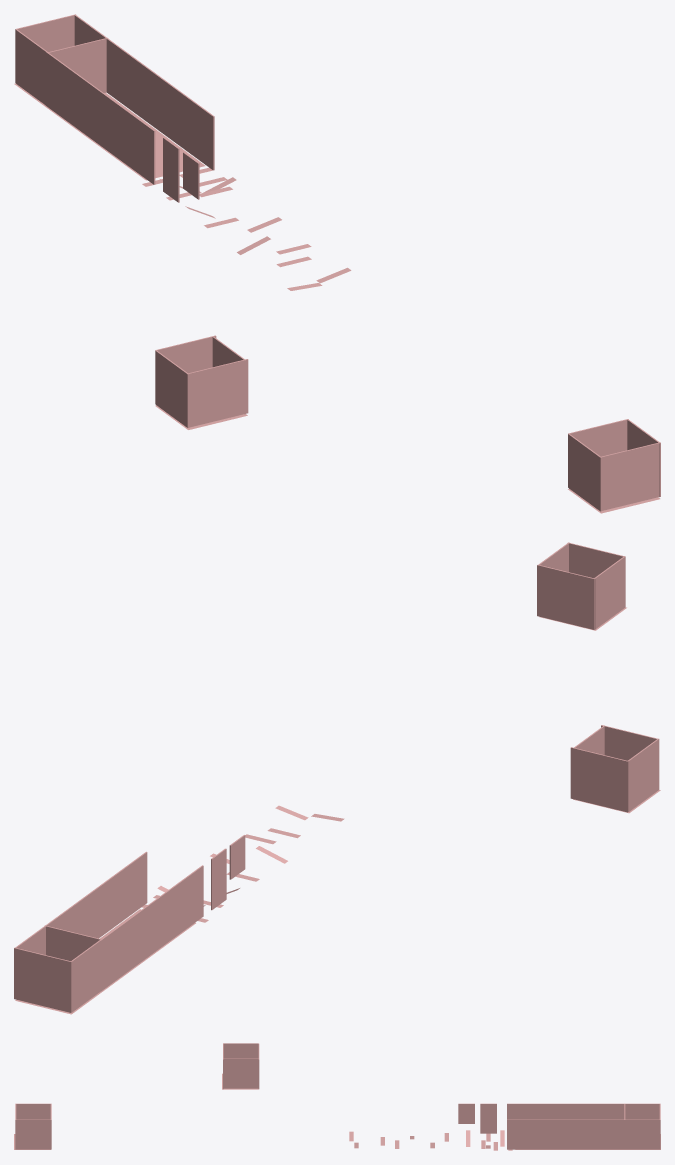
The model's file is testmap1.fbx.
3 renders of one model, top to bottom at view 1: azimuth 30°, elevation 25°; view 2: azimuth 150°, elevation 25°; view 3: azimuth 270°, elevation 25°, orthographic. The views are drawn at different scales.
Parts seen in each view (by area): view 1: pCube15, pCube14, pCube13, pCube9, pCube7, pCube10, pCube2, pCube5, pCube6, pCube3, pCube11, pPlane2 (+1 smaller); view 2: pCube15, pCube14, pCube11, pCube3, pCube6, pCube10, pCube7, pCube2, pCube9, pCube5, pCube13, pCube16; view 3: pCube14, pCube15, pCube12, pCube8, pCube4, pCube7, pCube2, pCube10, pCube16, pCube17.
Part boxes in pixels (x1,y1,x2,y2): pCube15: [46, 52, 155, 184]; pCube14: [106, 38, 214, 170]; pCube13: [187, 359, 248, 427]; pCube9: [601, 442, 660, 510]; pCube7: [568, 434, 601, 511]; pCube10: [155, 350, 188, 427]; pCube2: [15, 29, 48, 105]; pCube5: [48, 38, 106, 92]; pCube6: [568, 419, 628, 487]; pCube3: [15, 14, 75, 82]; pCube11: [155, 335, 216, 403]; pPlane2: [14, 83, 205, 180]; pCube15: [100, 865, 203, 991]; pCube14: [45, 851, 147, 938]; pCube11: [570, 747, 628, 812]; pCube3: [14, 947, 71, 1012]; pCube6: [537, 565, 594, 629]; pCube10: [628, 738, 659, 811]; pCube7: [594, 556, 625, 629]; pCube2: [71, 939, 101, 1012]; pCube9: [569, 543, 624, 578]; pCube5: [44, 925, 100, 961]; pCube13: [601, 725, 658, 760]; pCube16: [211, 848, 226, 910]; pCube14: [507, 1119, 626, 1149]; pCube15: [507, 1103, 625, 1119]; pCube12: [223, 1058, 258, 1088]; pCube8: [15, 1119, 50, 1149]; pCube4: [625, 1119, 659, 1149]; pCube7: [16, 1103, 50, 1119]; pCube2: [625, 1103, 659, 1119]; pCube10: [223, 1043, 258, 1058]; pCube16: [480, 1103, 496, 1133]; pCube17: [458, 1103, 474, 1123].
Size of the model in its own units: 203 by 44.72 by 715.
